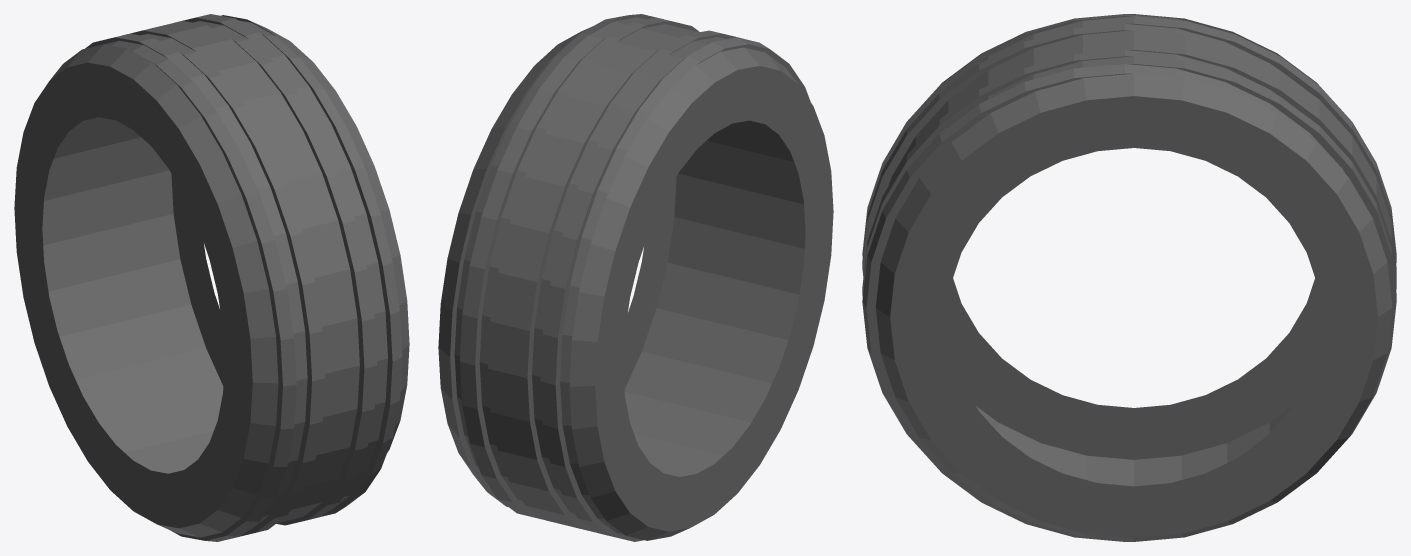
Rendered from llanta.fbx.
The picture shows the model from 3 angles, left to right: view 1: azimuth 30°, elevation 25°; view 2: azimuth 150°, elevation 25°; view 3: azimuth 270°, elevation 25°; orthographic projection. The views are drawn at different scales.
Parts seen in each view (by area): view 1: Circle; view 2: Circle; view 3: Circle.
Part boxes in pixels (x1=…): Circle: x1=14, y1=14, x2=409, y2=541; Circle: x1=438, y1=14, x2=833, y2=541; Circle: x1=862, y1=14, x2=1396, y2=541.
Bounding box in the file's own units: 76.01 × 215 × 219.
